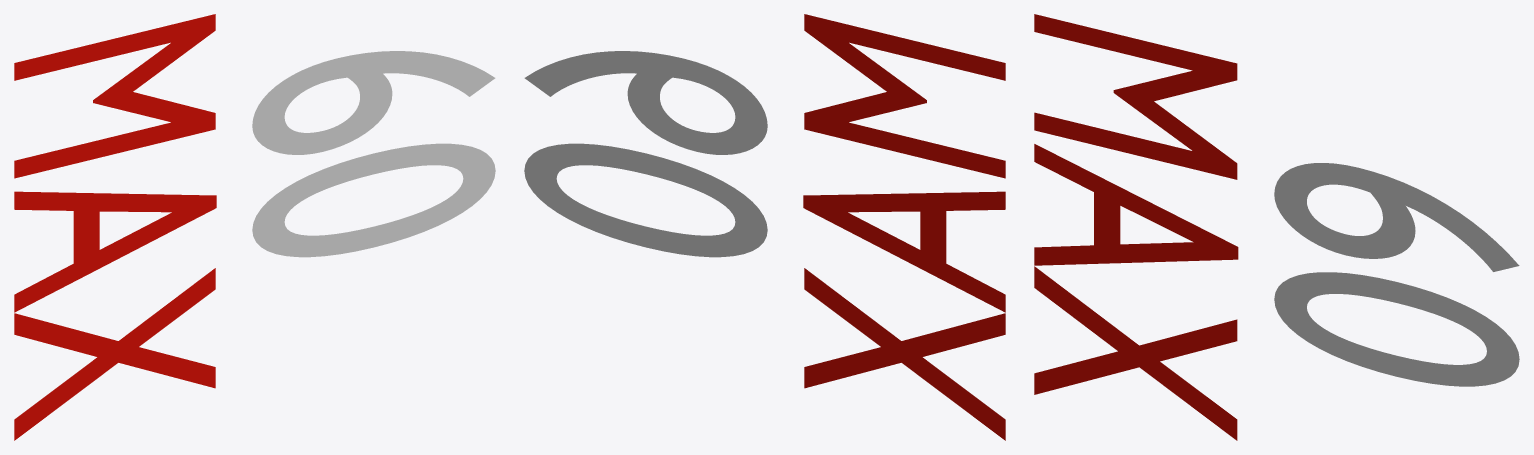
Rendered from 地面标识-限速上限60.gltf.
3 views of the same model, side by side, from view 1: azimuth 30°, elevation 25°; view 2: azimuth 150°, elevation 25°; view 3: azimuth 330°, elevation 25° (orthographic).
Parts seen in each view (by area): view 1: 文本.002, 文本; view 2: 文本.002, 文本; view 3: 文本.002, 文本.
Part boxes in pixels (box(x1,y1,x2,y2)): 文本.002: box(14, 14, 216, 440); 文本: box(252, 51, 495, 257); 文本.002: box(803, 14, 1005, 440); 文本: box(524, 51, 767, 257); 文本.002: box(1034, 14, 1238, 440); 文本: box(1274, 163, 1519, 386).
Size of the model in its own units: 3.4 by 2.55 by 8.08e-07.
